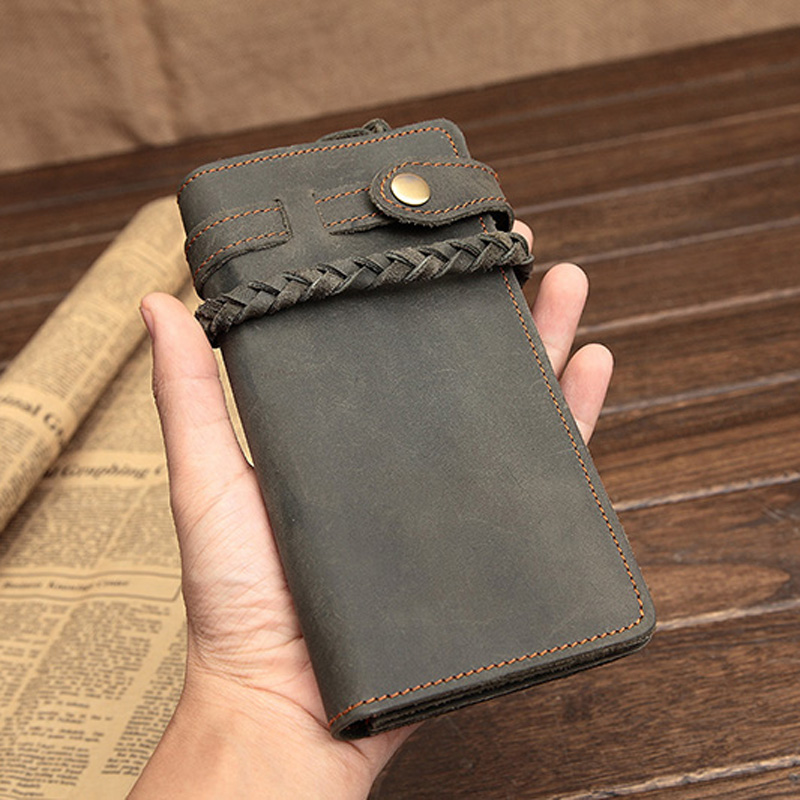monedero: (174, 115, 661, 748)
